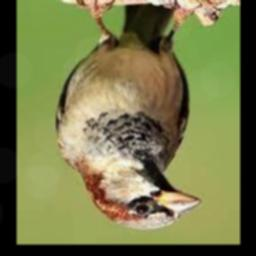Sparrow: (56, 0, 202, 229)
